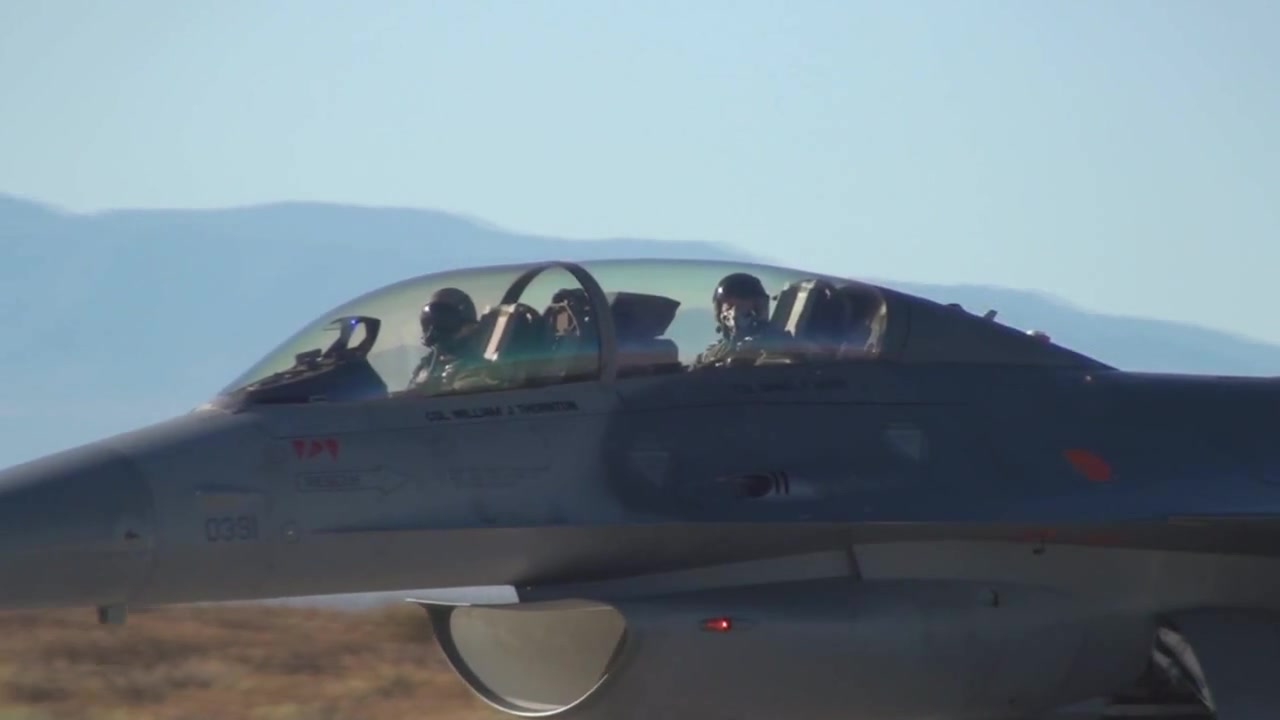aeroplane: (4, 254, 1280, 718)
